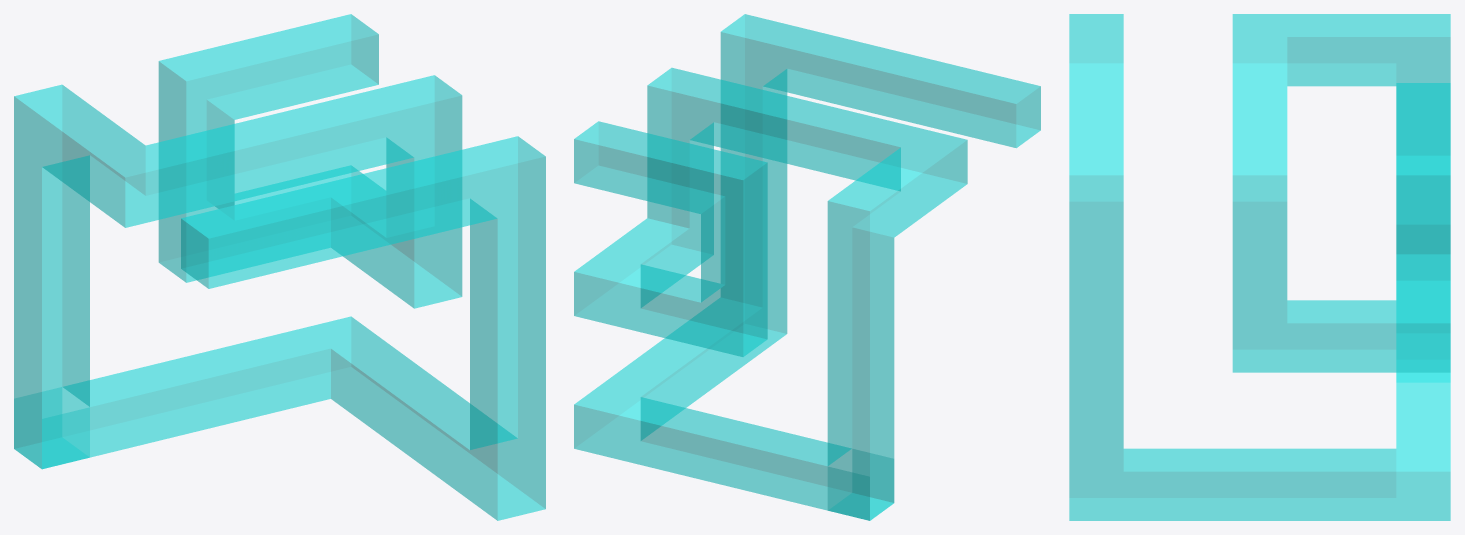
Rendered from Espiral v2.fbx.
The picture shows the model from 3 angles, left to right: view 1: azimuth 30°, elevation 25°; view 2: azimuth 150°, elevation 25°; view 3: azimuth 270°, elevation 25°; orthographic projection. The views are drawn at different scales.
Parts seen in each view (by area): view 1: ESPIRAL; view 2: ESPIRAL; view 3: ESPIRAL.
Part boxes in pixels (x1=…): ESPIRAL: x1=14, y1=14, x2=545, y2=520; ESPIRAL: x1=574, y1=14, x2=1040, y2=520; ESPIRAL: x1=1069, y1=14, x2=1450, y2=520.
Size of the model in its own units: 700 by 700 by 700.
